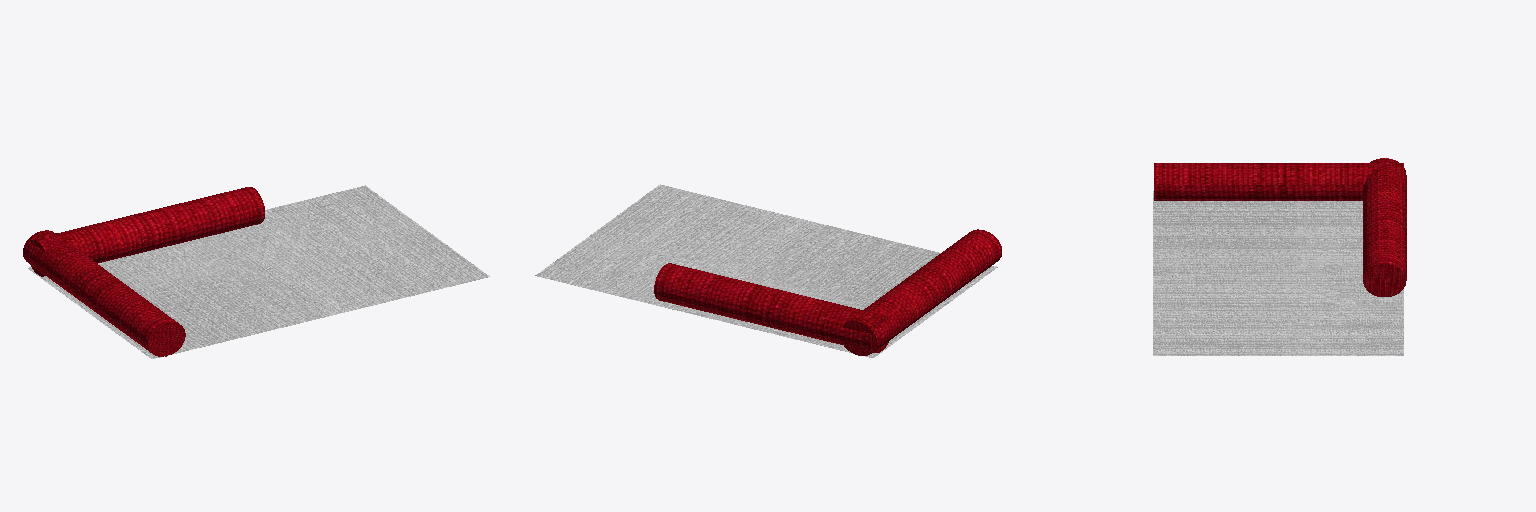
The picture shows the model from 3 angles: view 1: azimuth 30°, elevation 25°; view 2: azimuth 150°, elevation 25°; view 3: azimuth 270°, elevation 25°; orthographic projection.
Parts seen in each view (by area): view 1: pPlane1, pCylinder2, pCylinder1; view 2: pPlane1, pCylinder2, pCylinder1; view 3: pPlane1, pCylinder1, pCylinder2.
Boxes of the visible parts, <box> form: pPlane1: <box>28,185,489,358</box>; pCylinder2: <box>30,187,264,276</box>; pCylinder1: <box>23,230,185,356</box>; pPlane1: <box>535,184,997,357</box>; pCylinder2: <box>654,263,889,352</box>; pCylinder1: <box>842,229,1001,355</box>; pPlane1: <box>1153,191,1403,355</box>; pCylinder1: <box>1154,163,1403,200</box>; pCylinder2: <box>1363,158,1406,296</box>.
Bounding box in the file's own units: 127 × 12.06 × 80.92.
2 materials, 2 textured.